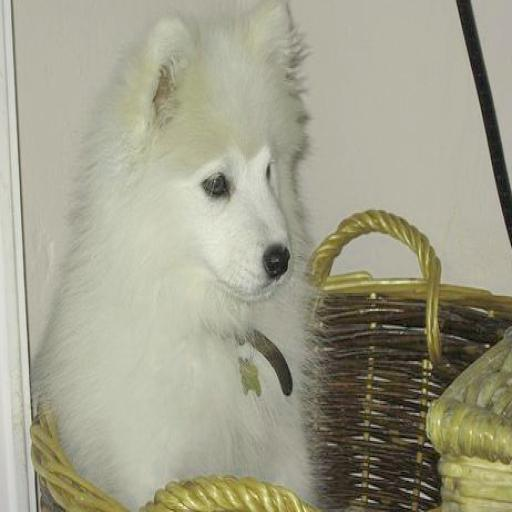dog_face: (143, 11, 300, 300)
